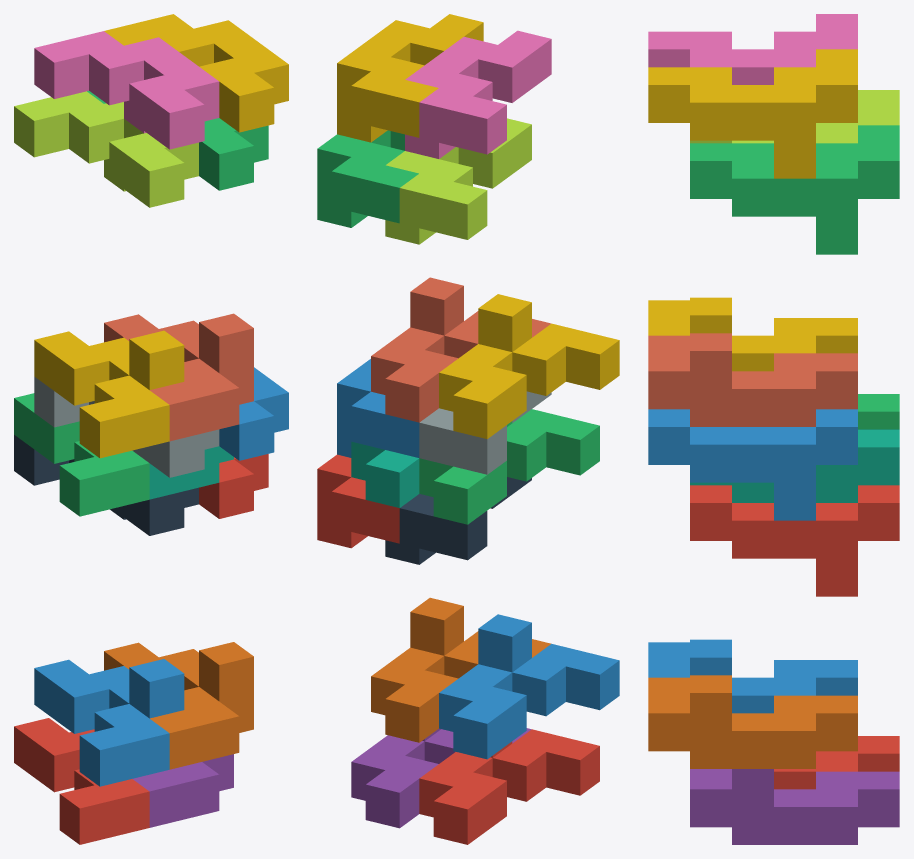
The model's file is tiling.obj.
The picture shows the model from 3 angles, left to right: view 1: azimuth 30°, elevation 25°; view 2: azimuth 150°, elevation 25°; view 3: azimuth 270°, elevation 25°; orthographic projection. The views are drawn at different scales.
Parts seen in each view (by area): view 1: copy_1_domain_4, copy_1_domain_2, copy_2_domain_4, copy_2_domain_3, copy_1_domain_6, copy_1_domain_8, copy_2_domain_8, copy_1_domain_1, copy_1_domain_3, copy_1_domain_5, copy_2_domain_7, copy_2_domain_1 (+4 smaller); view 2: copy_1_domain_2, copy_1_domain_4, copy_2_domain_4, copy_1_domain_1, copy_2_domain_8, copy_2_domain_3, copy_1_domain_8, copy_1_domain_6, copy_1_domain_3, copy_2_domain_7, copy_1_domain_5, copy_2_domain_5 (+4 smaller); view 3: copy_2_domain_8, copy_1_domain_6, copy_1_domain_8, copy_2_domain_7, copy_1_domain_5, copy_2_domain_6, copy_2_domain_5, copy_2_domain_4, copy_1_domain_2, copy_1_domain_4, copy_1_domain_7, copy_1_domain_1 (+2 smaller).
Boxes of the visible parts, <box> form: copy_1_domain_4: <box>34,330,184,458</box>; copy_1_domain_2: <box>34,659,184,786</box>; copy_2_domain_4: <box>34,31,219,149</box>; copy_2_domain_3: <box>14,91,198,207</box>; copy_1_domain_6: <box>104,642,253,769</box>; copy_1_domain_8: <box>104,313,253,441</box>; copy_2_domain_8: <box>104,14,288,132</box>; copy_1_domain_1: <box>14,718,149,844</box>; copy_1_domain_3: <box>14,393,149,516</box>; copy_1_domain_5: <box>132,754,233,827</box>; copy_2_domain_7: <box>87,91,268,190</box>; copy_2_domain_1: <box>14,435,198,535</box>; copy_1_domain_2: <box>439,614,619,759</box>; copy_1_domain_4: <box>439,294,619,439</box>; copy_2_domain_4: <box>405,30,551,158</box>; copy_1_domain_1: <box>419,729,599,844</box>; copy_2_domain_8: <box>337,14,483,142</box>; copy_2_domain_3: <box>385,118,531,244</box>; copy_1_domain_8: <box>371,277,550,422</box>; copy_1_domain_6: <box>371,597,550,742</box>; copy_1_domain_3: <box>419,409,599,524</box>; copy_2_domain_7: <box>317,130,418,227</box>; copy_1_domain_5: <box>351,728,531,828</box>; copy_2_domain_5: <box>317,454,399,548</box>; copy_2_domain_8: <box>648,49,857,178</box>; copy_1_domain_6: <box>648,675,857,768</box>; copy_1_domain_8: <box>648,333,857,426</box>; copy_2_domain_7: <box>690,125,899,254</box>; copy_1_domain_5: <box>690,769,899,844</box>; copy_2_domain_6: <box>648,409,857,520</box>; copy_2_domain_5: <box>690,485,899,596</box>; copy_2_domain_4: <box>648,14,857,84</box>; copy_1_domain_2: <box>648,639,857,713</box>; copy_1_domain_4: <box>648,297,857,371</box>; copy_1_domain_7: <box>690,429,899,502</box>; copy_1_domain_1: <box>774,736,899,789</box>.
Bounding box in the file's own units: 6 × 20 × 6.
